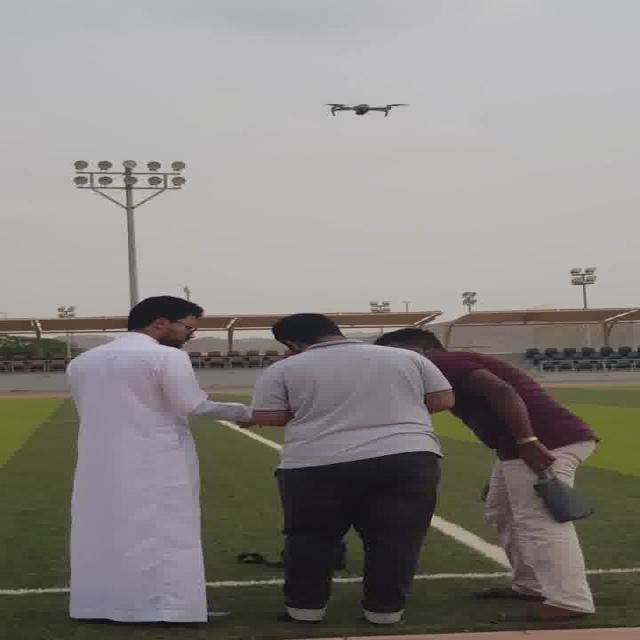drone: (319, 96, 412, 121)
